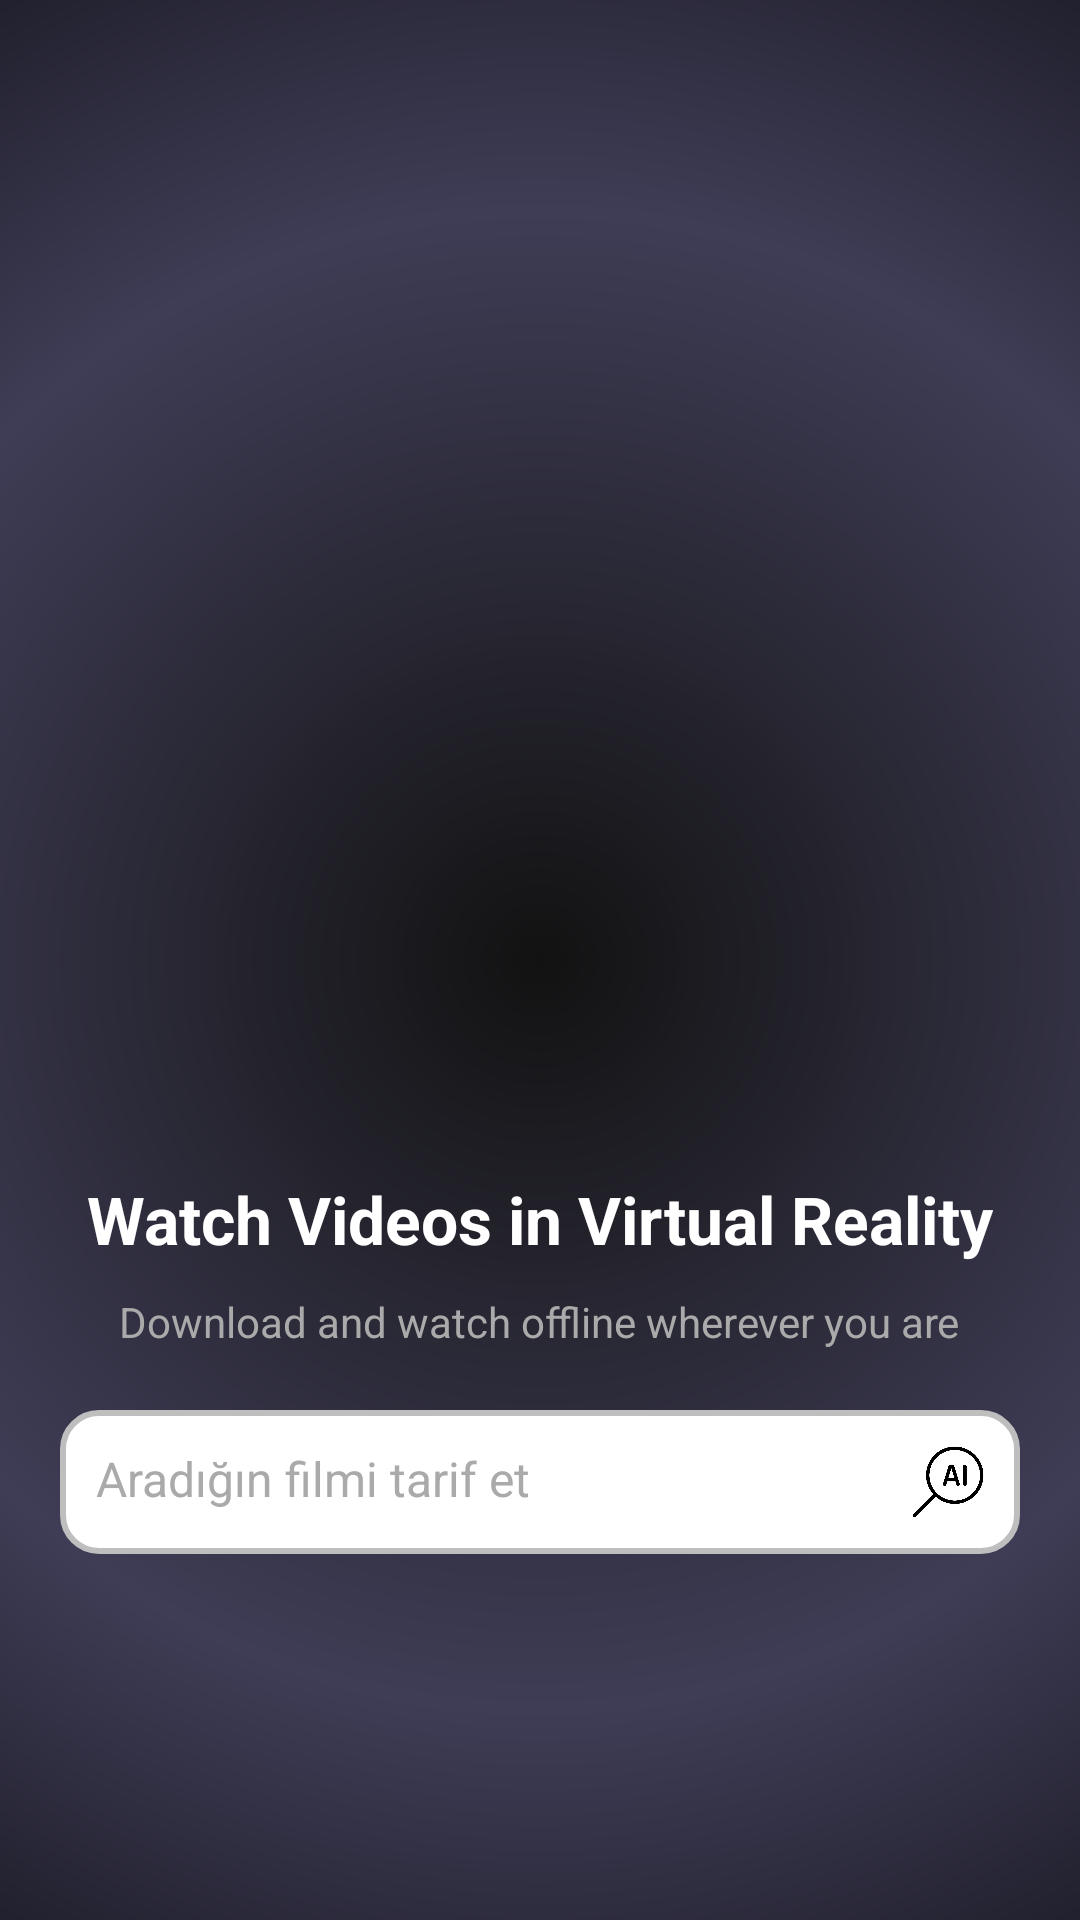

Named icons in this screenshot (1080×1920) and their centers, (x=x, y=y):
Ara: (x=948, y=1482)
